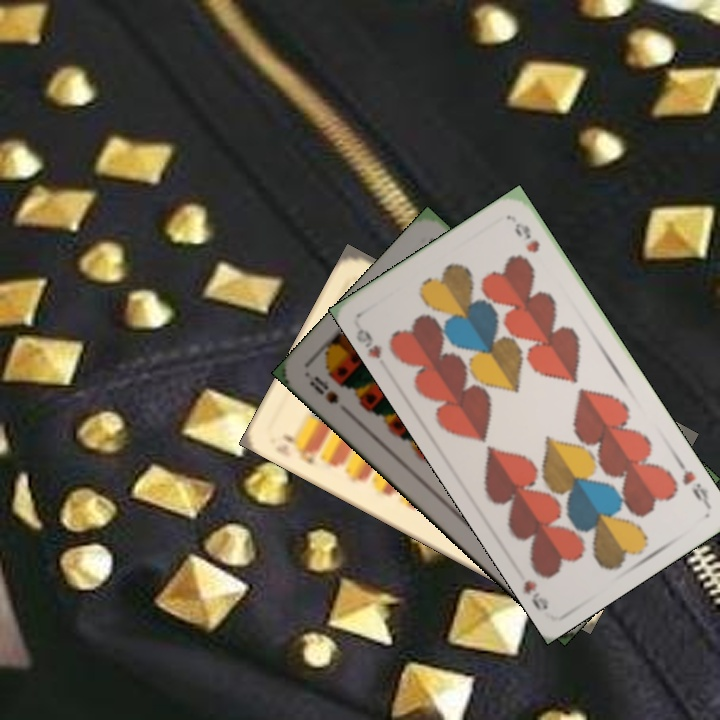E10: (278, 430, 321, 467)
H9: (673, 456, 712, 509), (353, 324, 386, 362)
S8: (305, 372, 342, 407)
